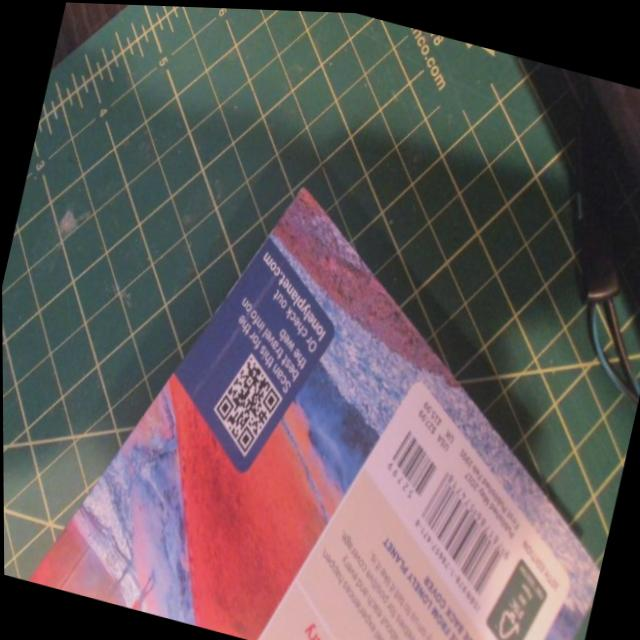QR_CODE: (196, 333, 299, 470)
